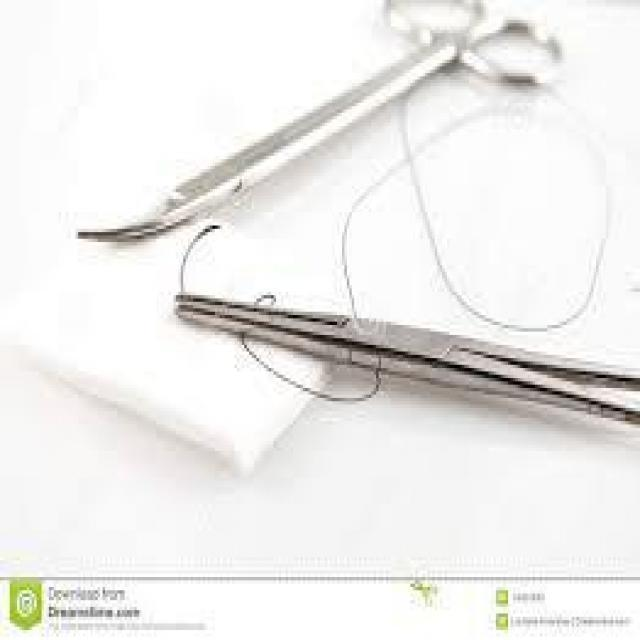Hemostat: (173, 285, 640, 431)
Mayo_metz: (64, 3, 572, 249)
Needle: (176, 218, 225, 298)
